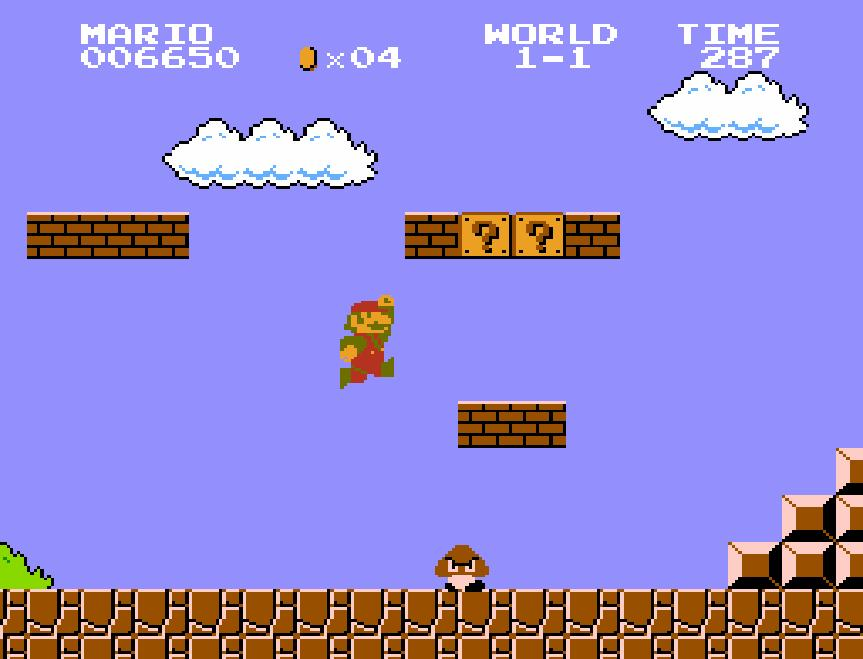big_mario: (338, 292, 396, 390)
